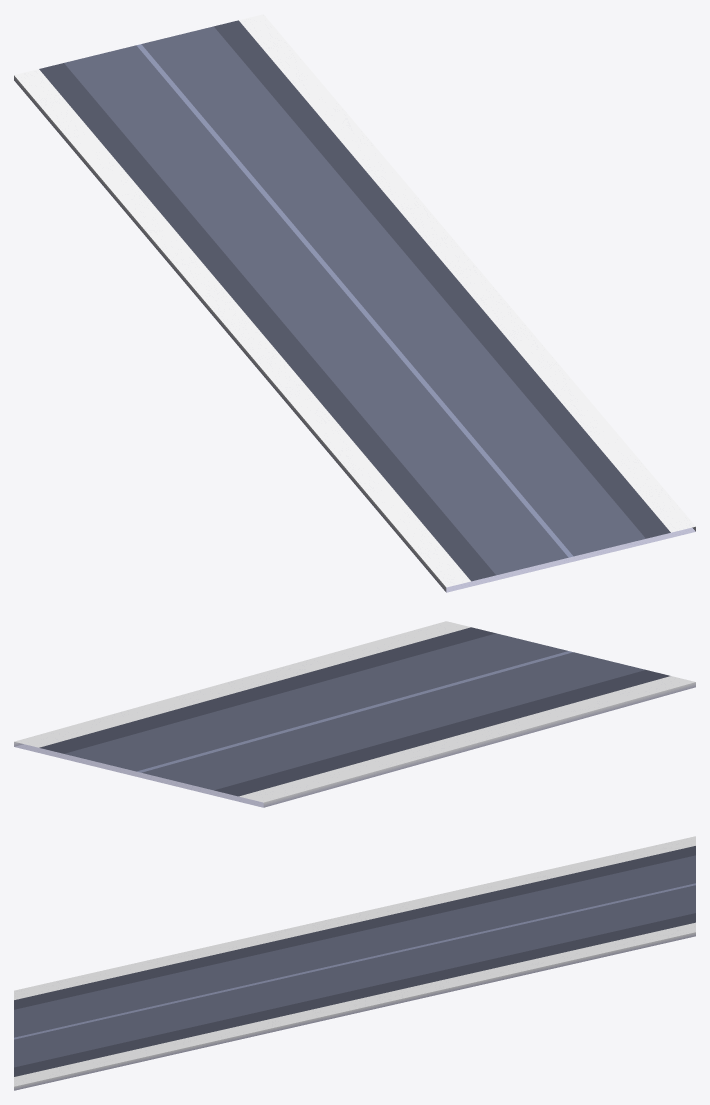
Rendered from road-Straight-BiSlopeUp-BiSlopeUp-Up3-Center-Size3.glb.
3 views of the same model, one above another, from view 1: azimuth 30°, elevation 25°; view 2: azimuth 150°, elevation 25°; view 3: azimuth 270°, elevation 25° (orthographic). The views are drawn at different scales.
Visible parts, largest first — view 1: road-Straight-BiSlopeUp-BiSlopeUp-Up3-Center-Size3; view 2: road-Straight-BiSlopeUp-BiSlopeUp-Up3-Center-Size3; view 3: road-Straight-BiSlopeUp-BiSlopeUp-Up3-Center-Size3.
Part boxes in pixels (<box>): road-Straight-BiSlopeUp-BiSlopeUp-Up3-Center-Size3: <box>14,14,695,592</box>; road-Straight-BiSlopeUp-BiSlopeUp-Up3-Center-Size3: <box>14,621,695,807</box>; road-Straight-BiSlopeUp-BiSlopeUp-Up3-Center-Size3: <box>14,836,695,1090</box>.
Bounding box in the file's own units: 1 × 0.77 × 3.
1 material, 1 textured.
